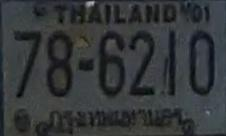0: (188, 29, 214, 94)
1: (162, 30, 176, 96)
2: (128, 30, 154, 95)
6: (98, 30, 124, 96)
7: (13, 30, 42, 97)
8: (46, 30, 72, 96)
BKK: (46, 104, 186, 127)
